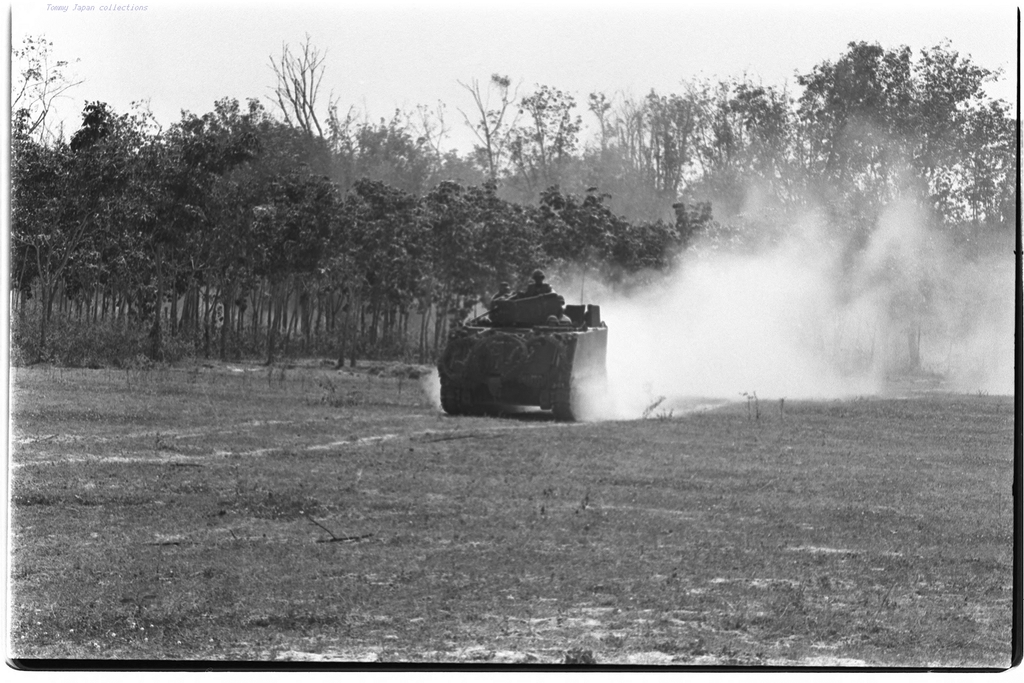Tree: (6, 30, 792, 373), (775, 37, 1023, 388), (8, 29, 82, 143)
